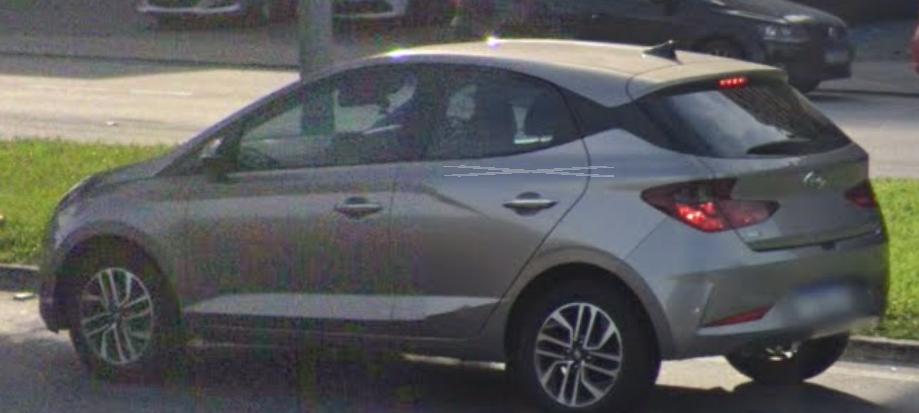car: (36, 37, 889, 410)
